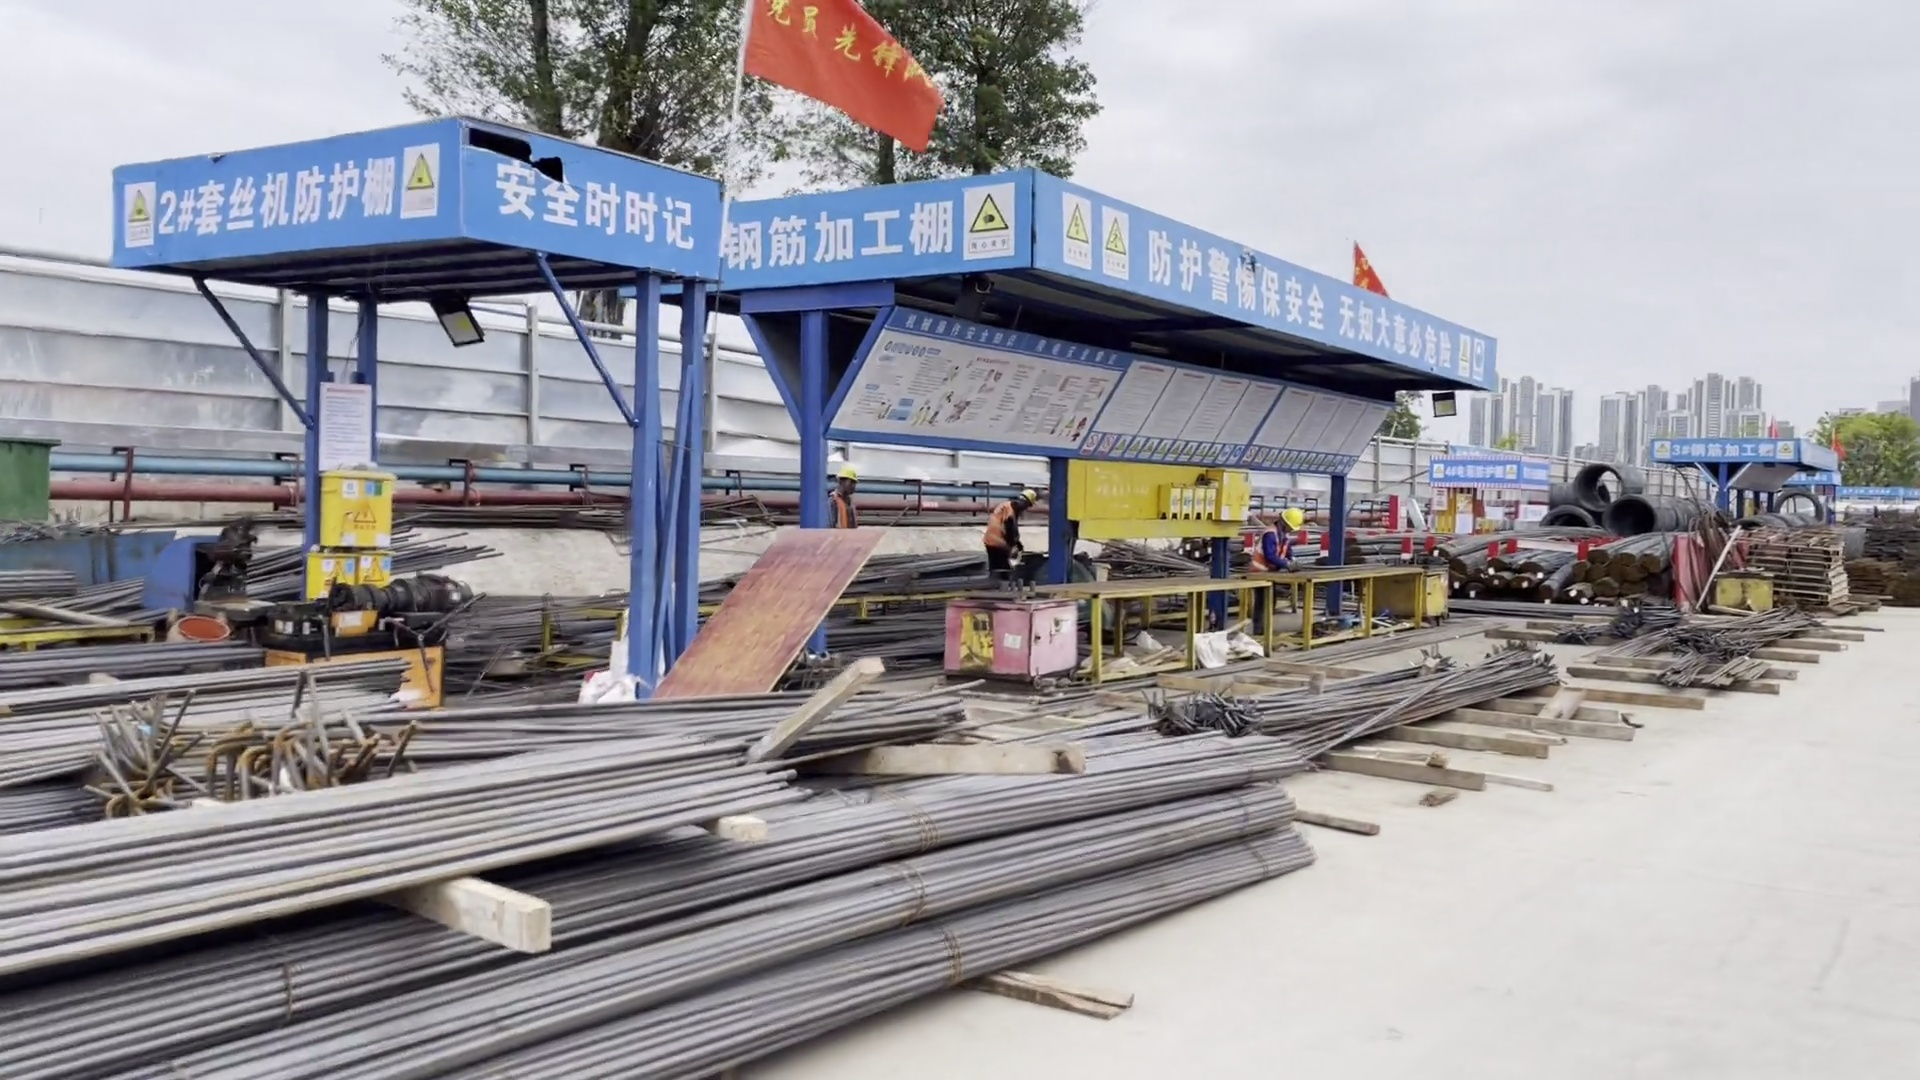ebox: (288, 464, 389, 602), (1208, 461, 1254, 524)
helmet: (1285, 507, 1304, 532), (836, 462, 856, 479), (1021, 489, 1035, 504)
person: (971, 482, 1045, 575), (1243, 501, 1306, 569), (823, 461, 866, 534)
rebar: (1, 723, 1291, 1070), (1, 682, 799, 973), (1184, 639, 1533, 765), (112, 506, 489, 613), (1431, 529, 1605, 556), (1588, 532, 1654, 559), (1640, 538, 1685, 574), (1616, 536, 1667, 560), (1536, 563, 1572, 597), (1518, 554, 1570, 573), (1448, 553, 1495, 573), (1496, 548, 1537, 571), (1594, 576, 1622, 600), (1512, 573, 1544, 593), (1458, 584, 1490, 602), (1568, 581, 1594, 600), (1571, 560, 1591, 583), (1444, 573, 1468, 591), (1622, 582, 1646, 599), (1486, 572, 1515, 586), (1585, 563, 1604, 583), (1629, 562, 1647, 581), (1607, 562, 1628, 579)
slogan: (1137, 223, 1461, 374), (496, 146, 680, 258)
vest: (981, 501, 1026, 556), (1253, 527, 1289, 569), (827, 492, 853, 528)
